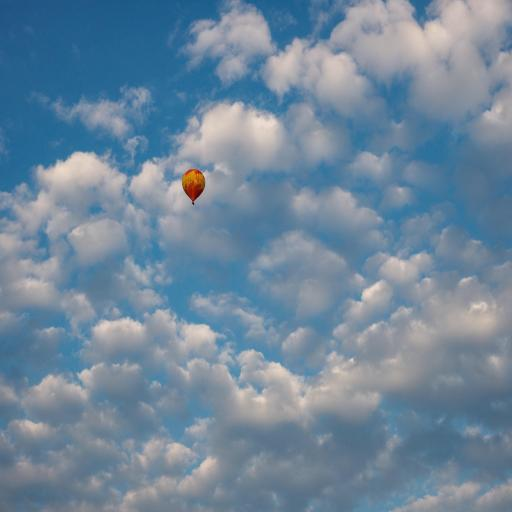hot air ballon: (182, 169, 205, 205)
